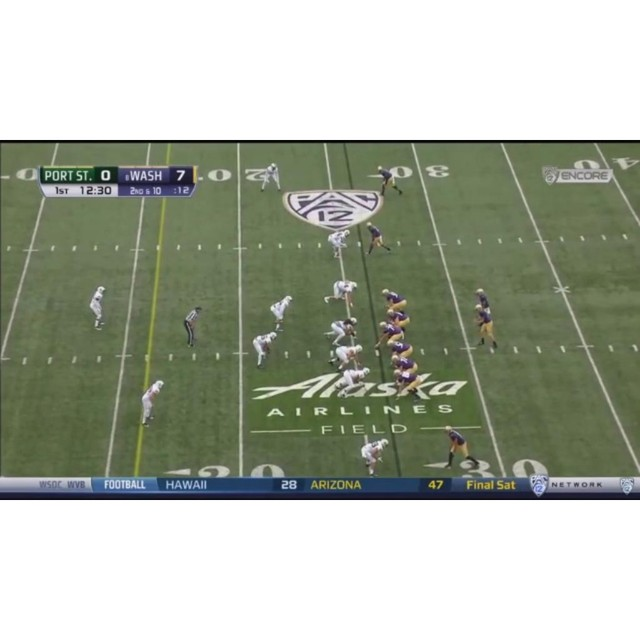american-football-player: (443, 424, 482, 469), (474, 303, 498, 352), (392, 370, 428, 402), (141, 380, 165, 427), (361, 438, 389, 477), (324, 317, 359, 348), (336, 367, 371, 398), (324, 280, 357, 312), (253, 330, 280, 369), (374, 321, 405, 354), (390, 353, 428, 379), (329, 344, 364, 372), (365, 222, 391, 256), (376, 165, 403, 197), (89, 285, 107, 330), (270, 295, 292, 331), (328, 228, 350, 259), (260, 163, 281, 193), (382, 288, 408, 312), (388, 340, 414, 360), (386, 308, 409, 330)
referee: (184, 306, 202, 347)
